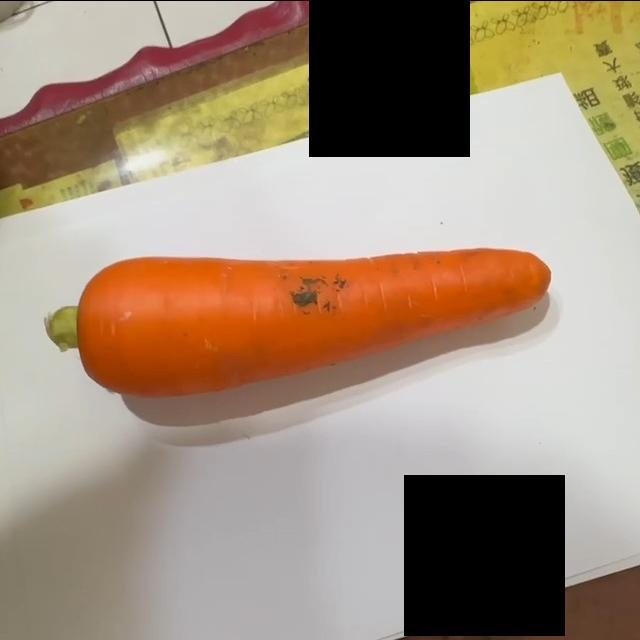carrot: (44, 242, 549, 399)
